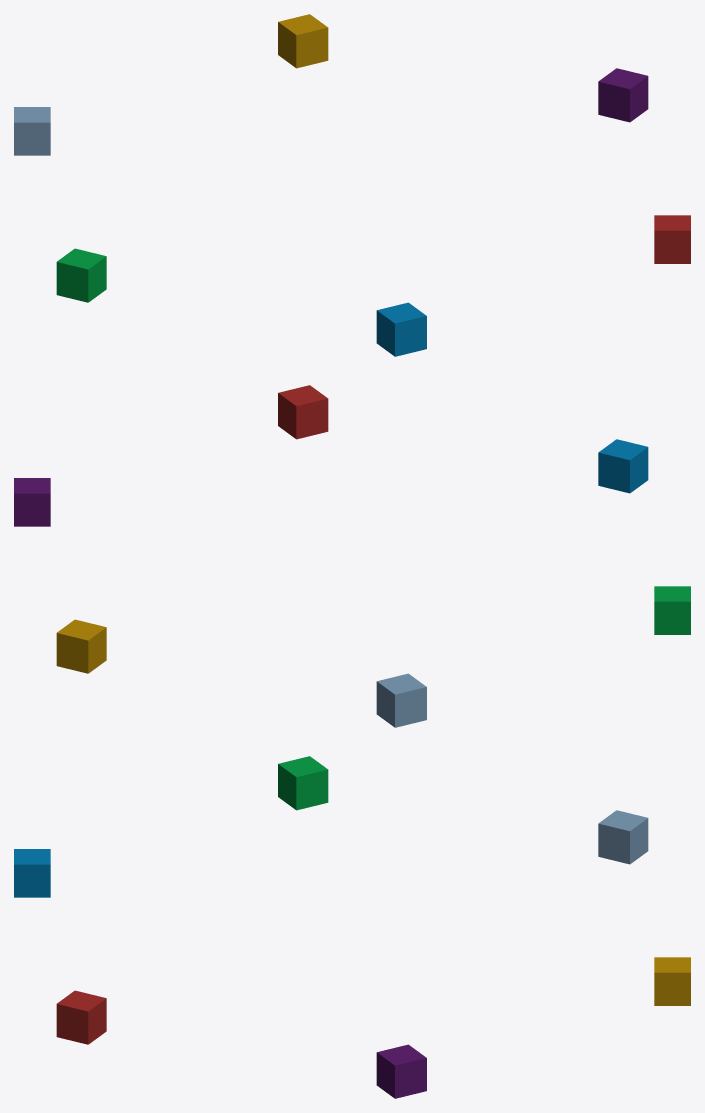
The model's file is pawns.glb.
The picture shows the model from 3 angles, top to bottom: view 1: azimuth 30°, elevation 25°; view 2: azimuth 150°, elevation 25°; view 3: azimuth 270°, elevation 25°; orthographic projection.
Parts seen in each view (by area): view 1: Cube.002, Cube.005, Cube.003, Cube.006, Cube.001, Cube.004; view 2: Cube.003, Cube.006, Cube.001, Cube.004, Cube.002, Cube.005; view 3: Cube.001, Cube.004, Cube.002, Cube.005, Cube.003, Cube.006.
Part boxes in pixels (left/top/right/bottom): Cube.002: left=56, top=248, right=106, bottom=302; Cube.005: left=598, top=68, right=648, bottom=122; Cube.003: left=376, top=302, right=426, bottom=356; Cube.006: left=278, top=14, right=328, bottom=68; Cube.001: left=14, top=107, right=50, bottom=155; Cube.004: left=654, top=215, right=690, bottom=263; Cube.003: left=598, top=439, right=648, bottom=493; Cube.006: left=56, top=619, right=106, bottom=673; Cube.001: left=376, top=673, right=426, bottom=727; Cube.004: left=278, top=385, right=328, bottom=439; Cube.002: left=654, top=586, right=690, bottom=634; Cube.005: left=14, top=478, right=50, bottom=526; Cube.001: left=598, top=810, right=648, bottom=864; Cube.004: left=56, top=990, right=106, bottom=1044; Cube.002: left=278, top=756, right=328, bottom=810; Cube.005: left=376, top=1044, right=426, bottom=1098; Cube.003: left=14, top=849, right=50, bottom=897; Cube.006: left=654, top=957, right=690, bottom=1005.
Bounding box in the file's own units: 1.6 × 0.08 × 1.48.
